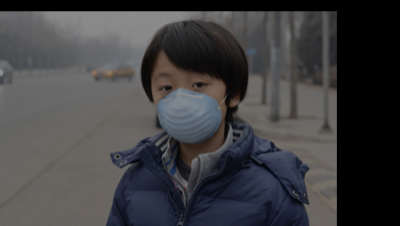with_mask: (150, 65, 227, 143)
